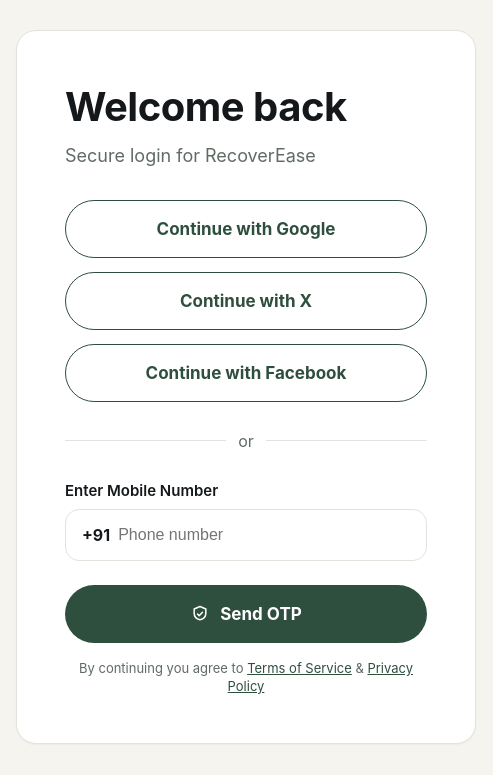
WelcomePage › validates the phone number before requesting an OTP
The image size is (493, 775).
Click the button "Send OTP": coordinates (246, 614) x1=65 y1=585 x2=427 y2=643
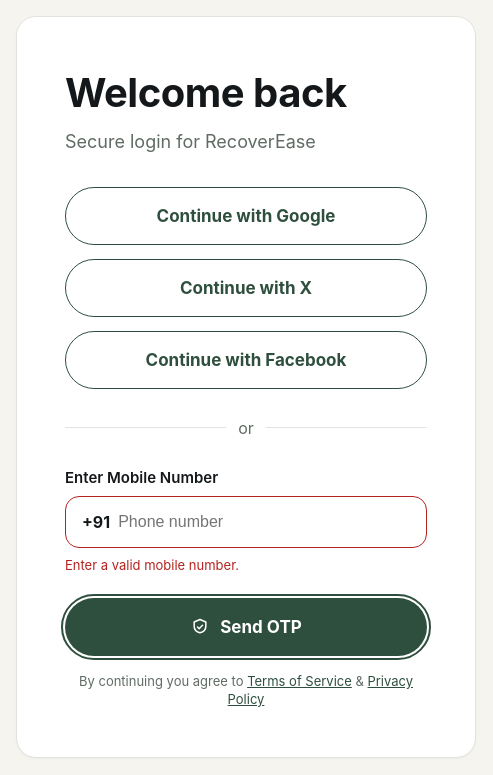
Now the message shows "valid mobile number", box x1=65 y1=557 x2=239 y2=573
